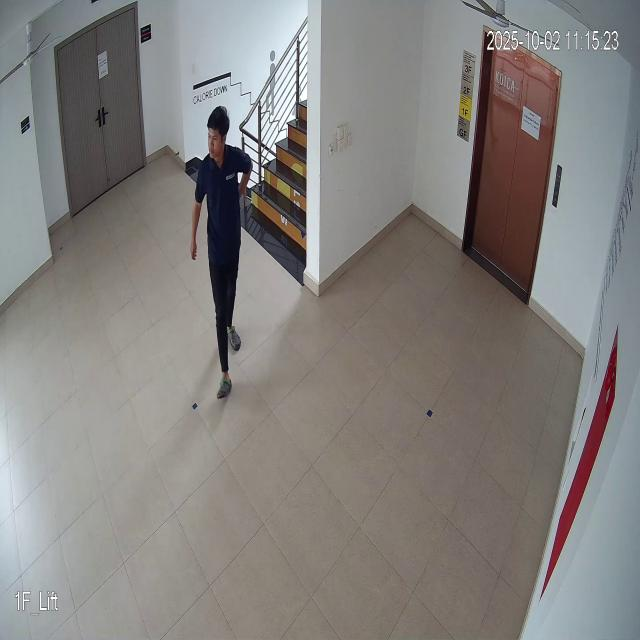face: (204, 102, 229, 163)
